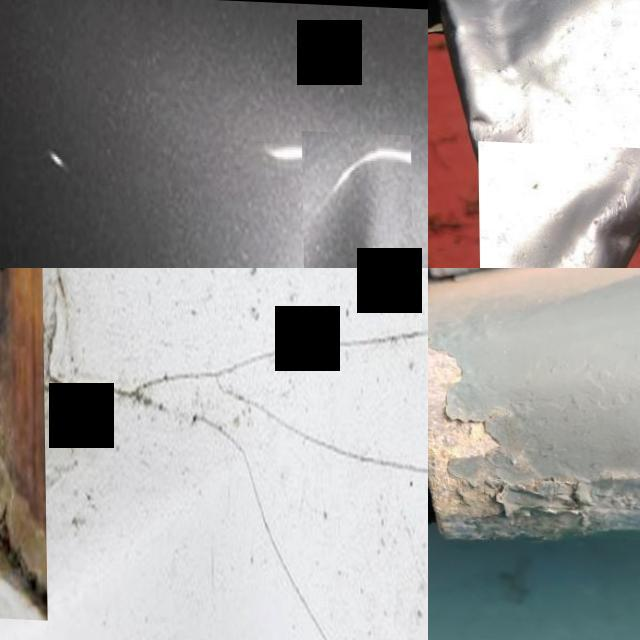Crack: (36, 291, 428, 640), (213, 381, 428, 475), (0, 504, 46, 619)
Dent: (476, 139, 640, 268), (428, 0, 600, 116), (303, 132, 411, 268)
